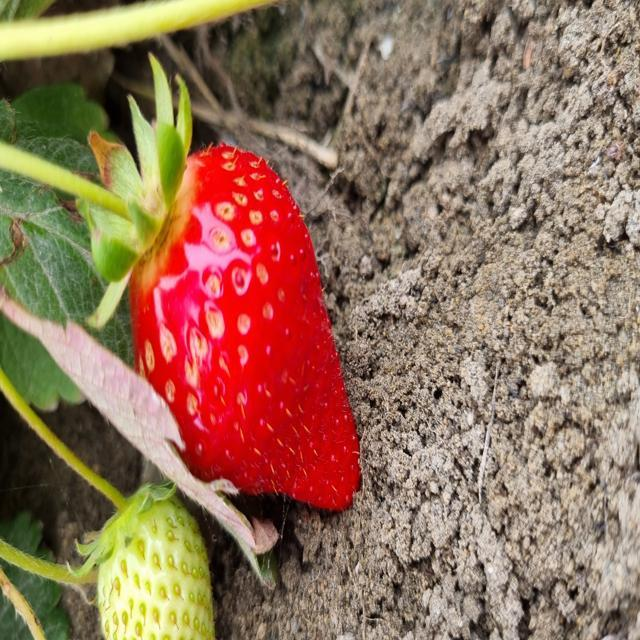Saludable: (128, 145, 361, 508)
